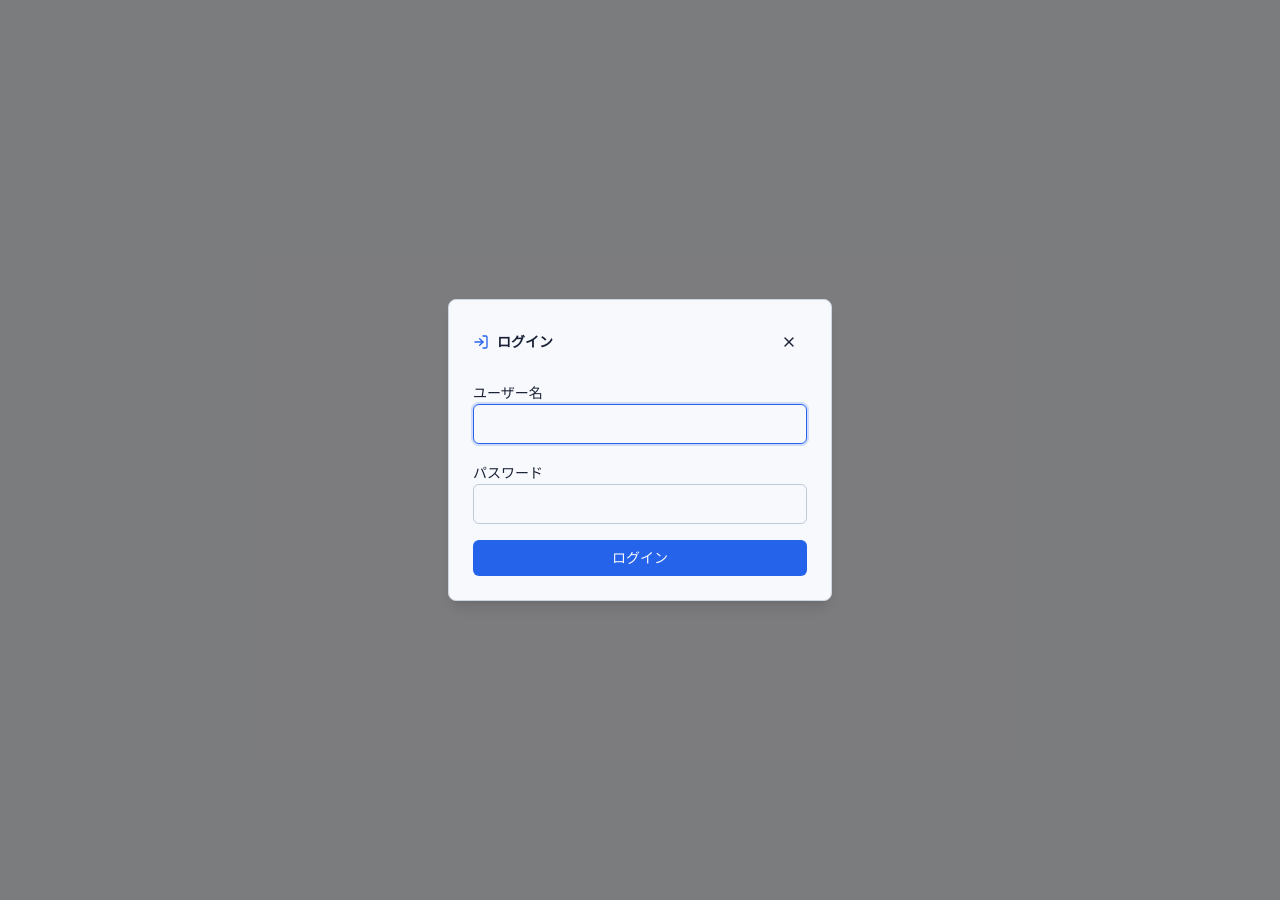
Test case: LoginDialog › 資格情報が不正な場合は既存のエラー文言を表示する
The width and height of the screenshot is (1280, 900).
Type "operator" into the field labelled "ユーザー名".
click(640, 424); type("operator")  # box [473,404,807,444]
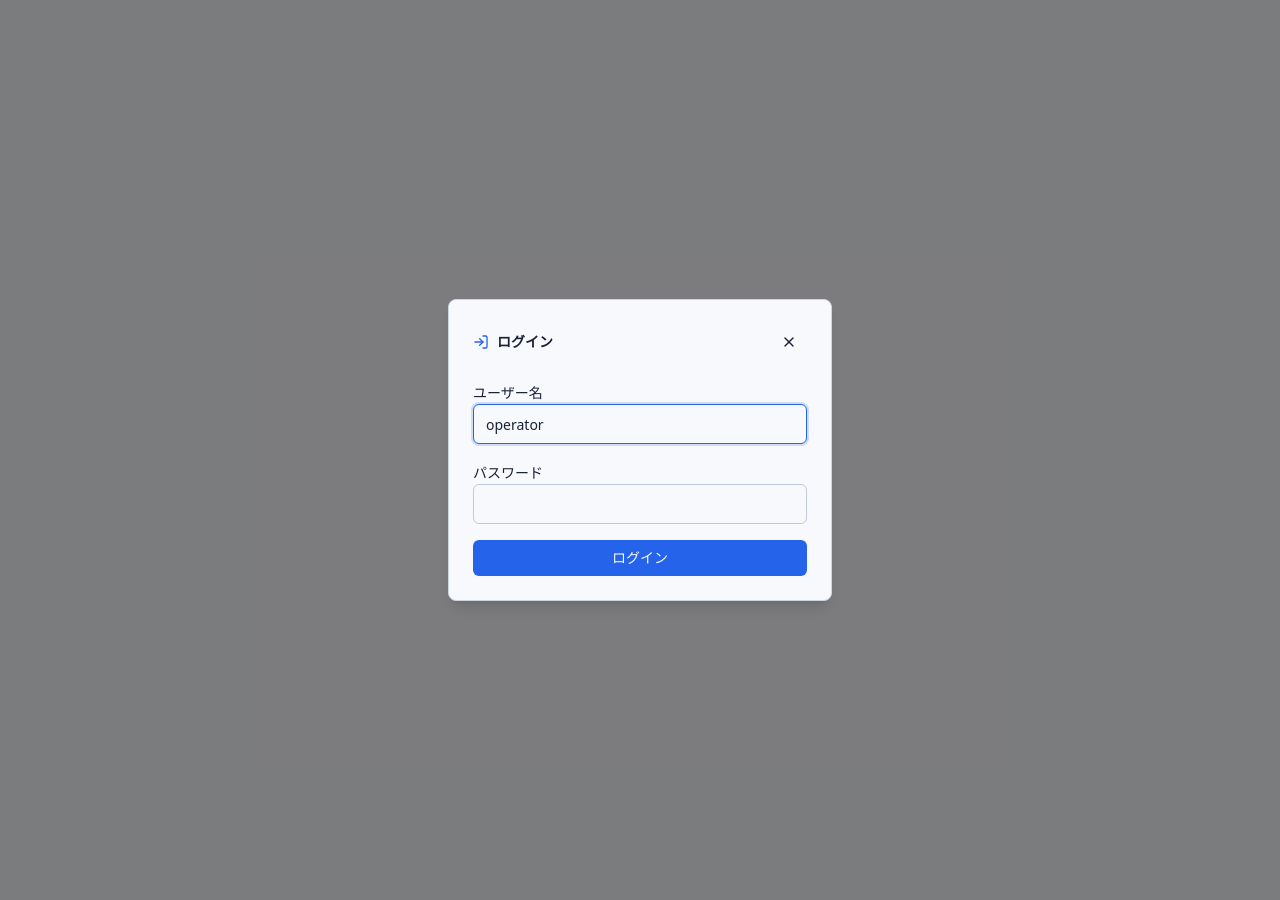
Type "wrong-password" into the password field labelled "パスワード".
click(640, 504); type("wrong-password")  # box [473,484,807,524]
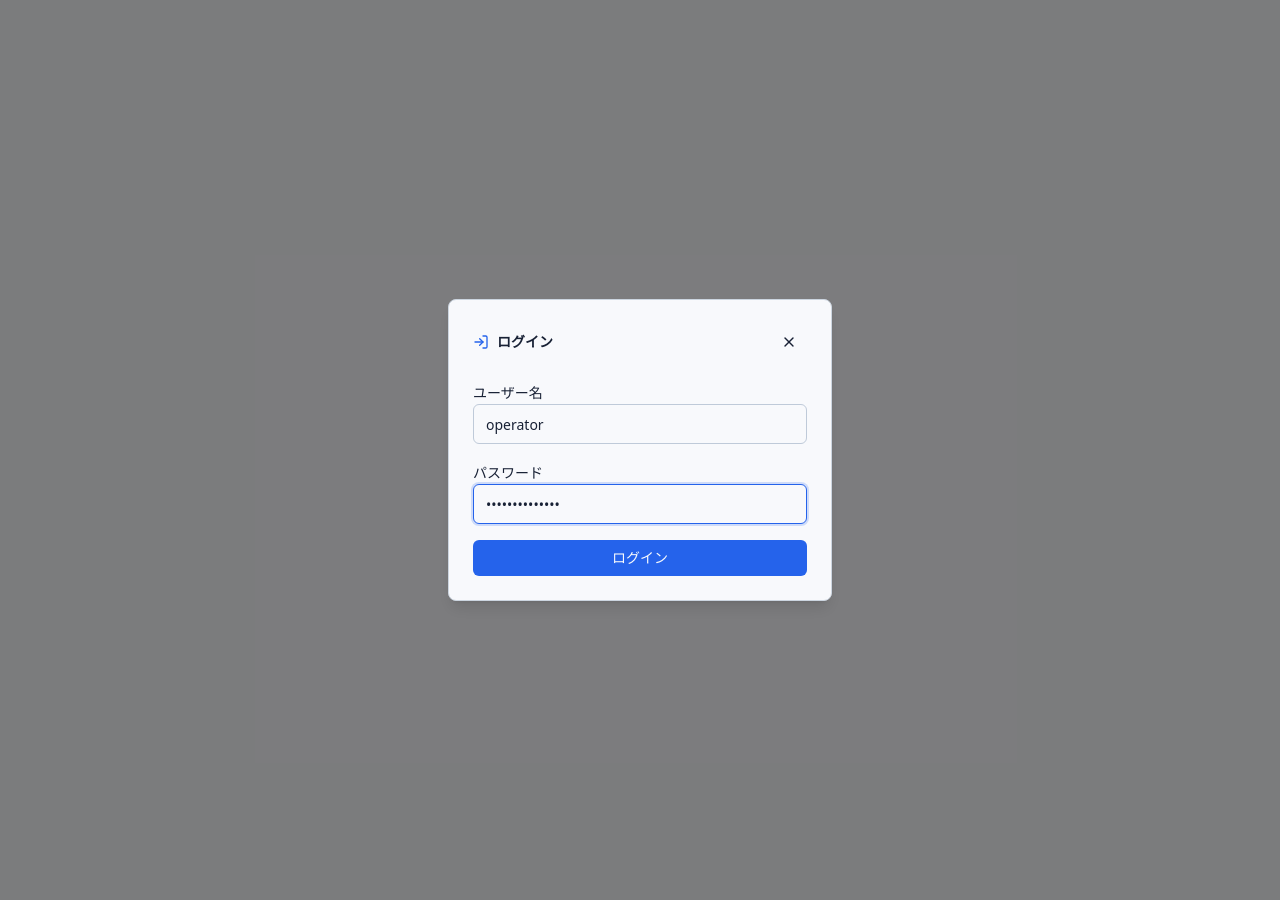
Click the button "ログイン".
click(640, 558)  # box [473,540,807,576]
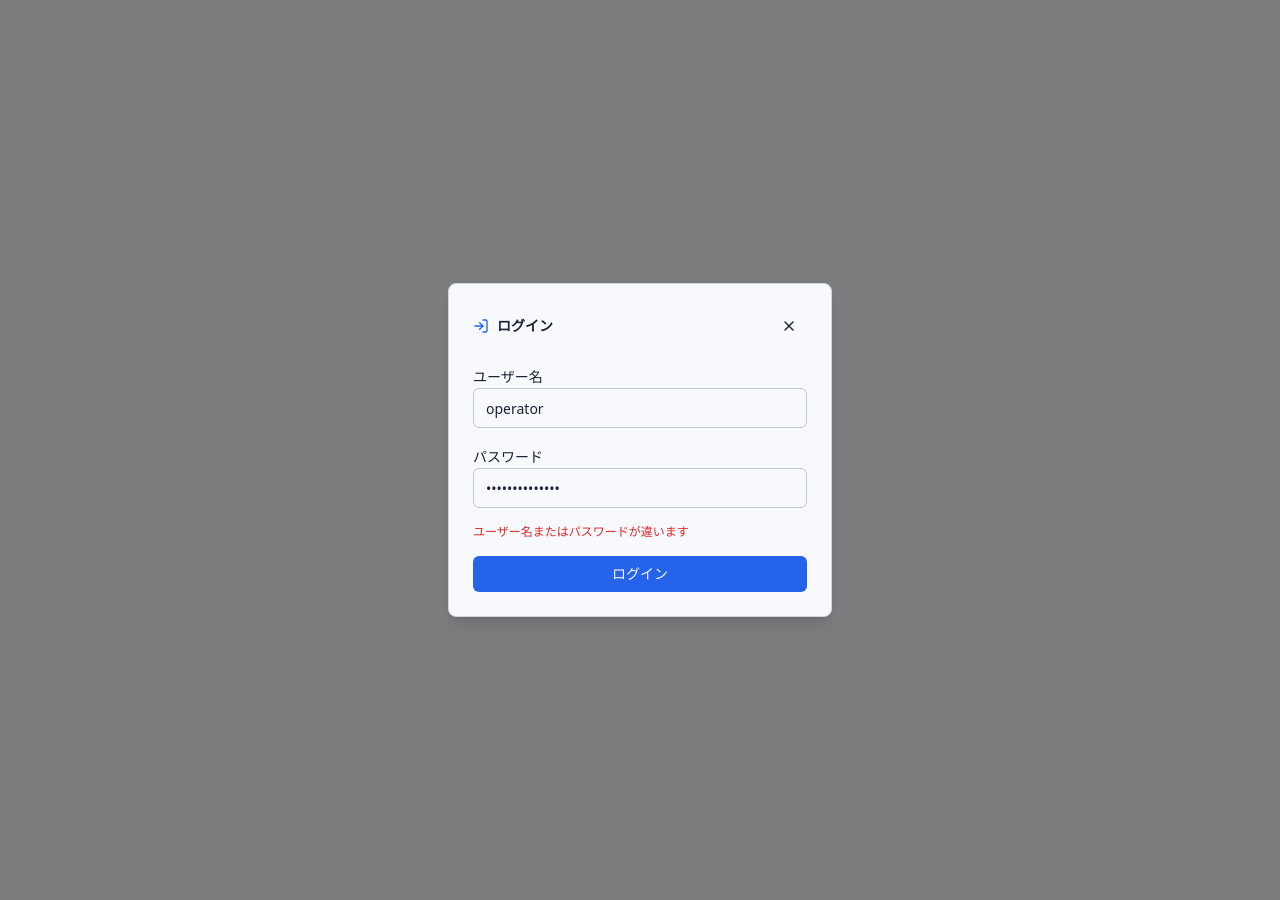
Check: the message reads "ユーザー名またはパスワードが違います", box [473,523,689,540]
